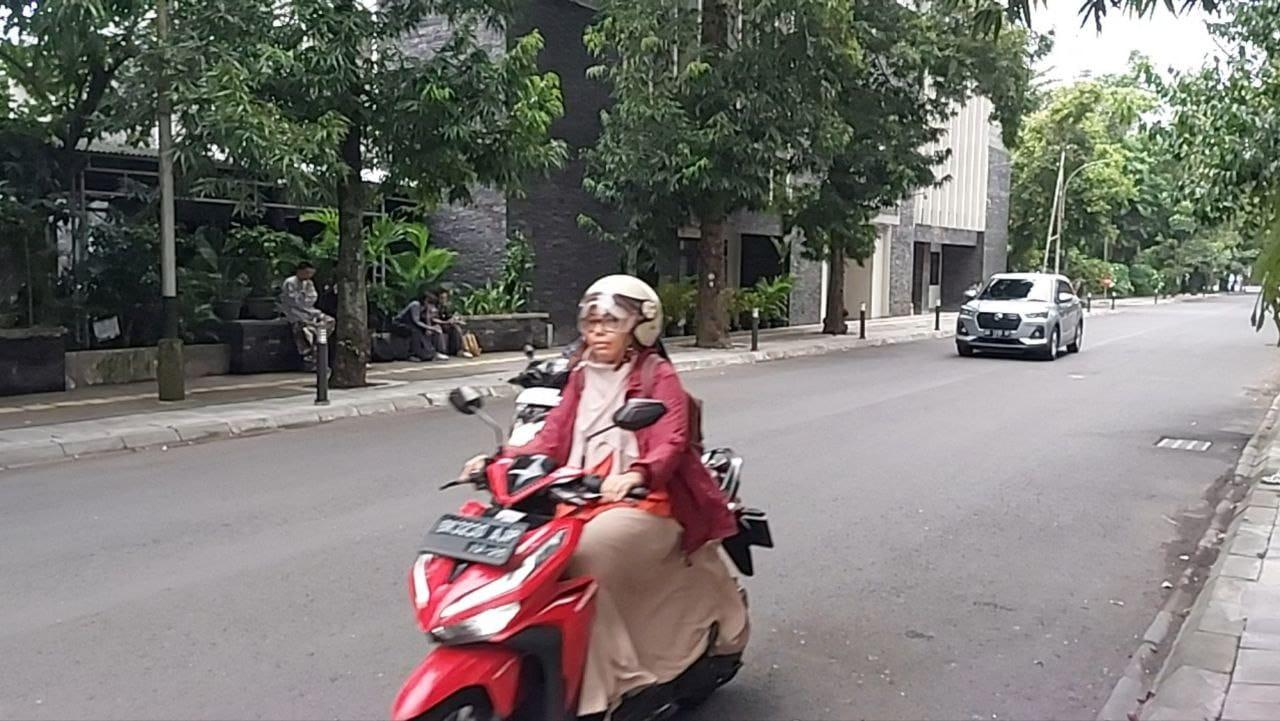helm: (576, 274, 667, 365)
riding: (385, 270, 779, 721)
